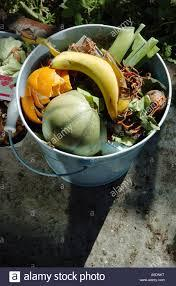Organic: (20, 17, 176, 158)
